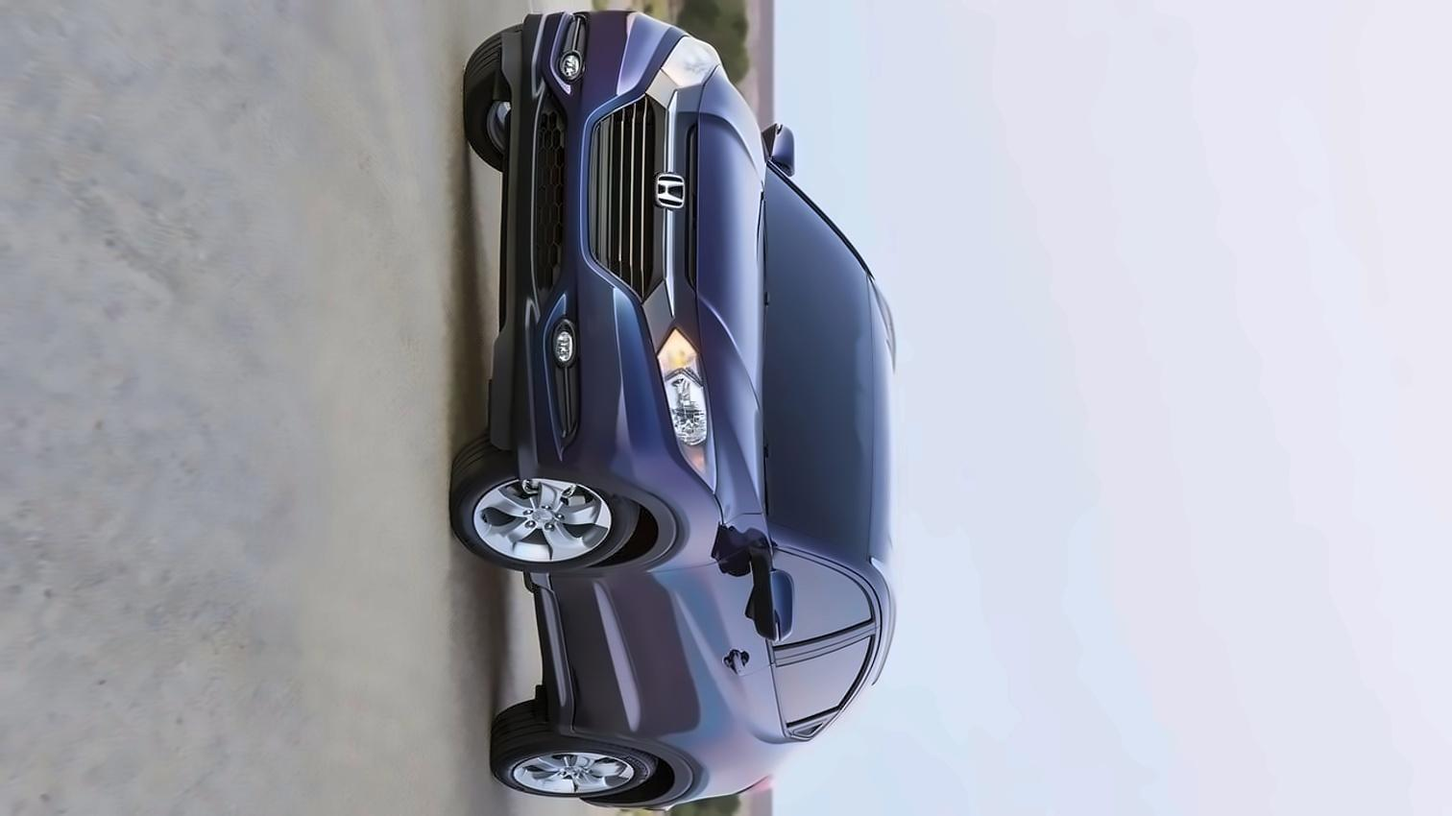Car hood: (692, 54, 773, 539)
Fender - -F-L-: (548, 420, 767, 609)
Fender - -R-L-: (567, 694, 778, 809)
Front bumper: (480, 4, 687, 514)
Headlight - -L-: (655, 325, 717, 497)
Headlight - -R-: (663, 30, 722, 91)
Passenger-s door - -F-L-: (503, 536, 915, 689)
Passenger-s door - -R-L-: (539, 615, 898, 750)
Side bumper - -L-: (521, 547, 632, 754)
Side mirror - -L-: (726, 532, 798, 647)
Side mirror - -R-: (756, 108, 800, 183)
